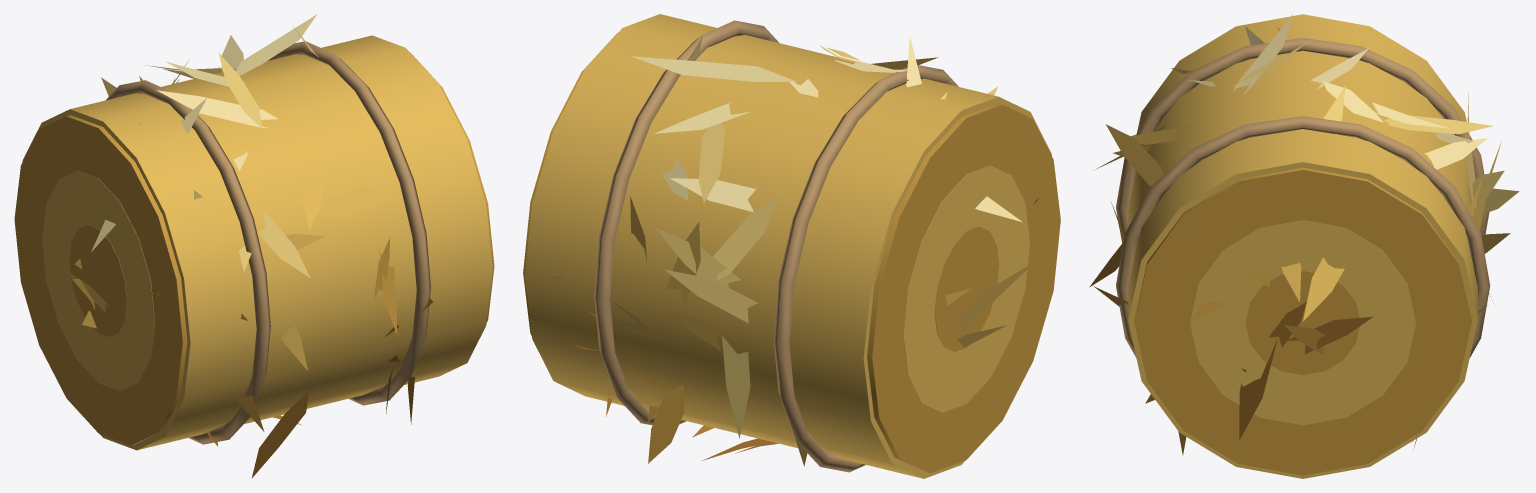
Rendered from HayBale.glb.
3 views of the same model, side by side, from view 1: azimuth 30°, elevation 25°; view 2: azimuth 150°, elevation 25°; view 3: azimuth 270°, elevation 25° (orthographic). The views are drawn at different scales.
Parts seen in each view (by area): view 1: Body; view 2: Body; view 3: Body.
Part boxes in pixels (box(x1,y1,x2,y2)): Body: box(14, 14, 494, 478); Body: box(523, 14, 1060, 478); Body: box(1089, 14, 1519, 478).
Size of the model in its own units: 2.29 by 2.14 by 2.1.
Materials: 1 (1 with a texture image).
